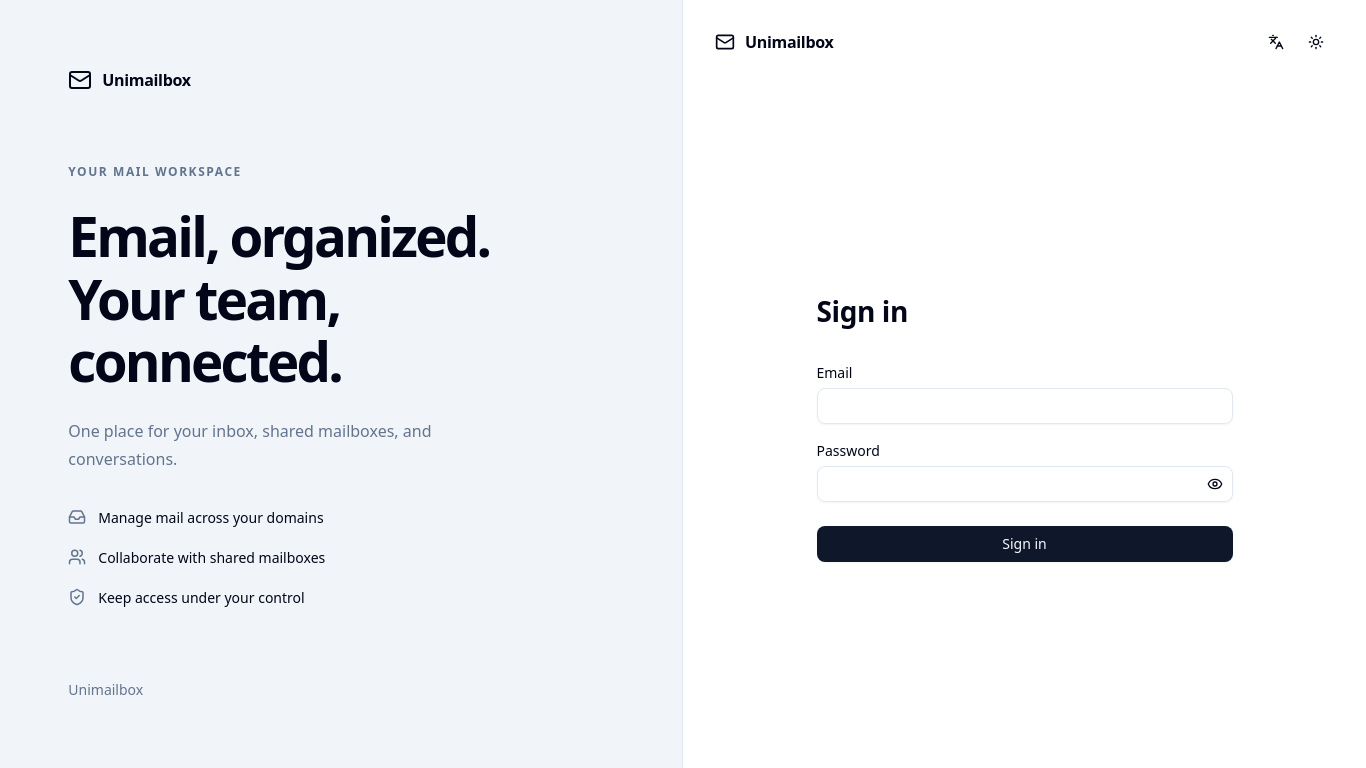
LoginPage › surfaces a 401 with the unauthorized ErrorPanel
Type "wrong@b.test" into the field labelled "Email".
click(1024, 406); type("wrong@b.test")  # box [816,388,1232,424]
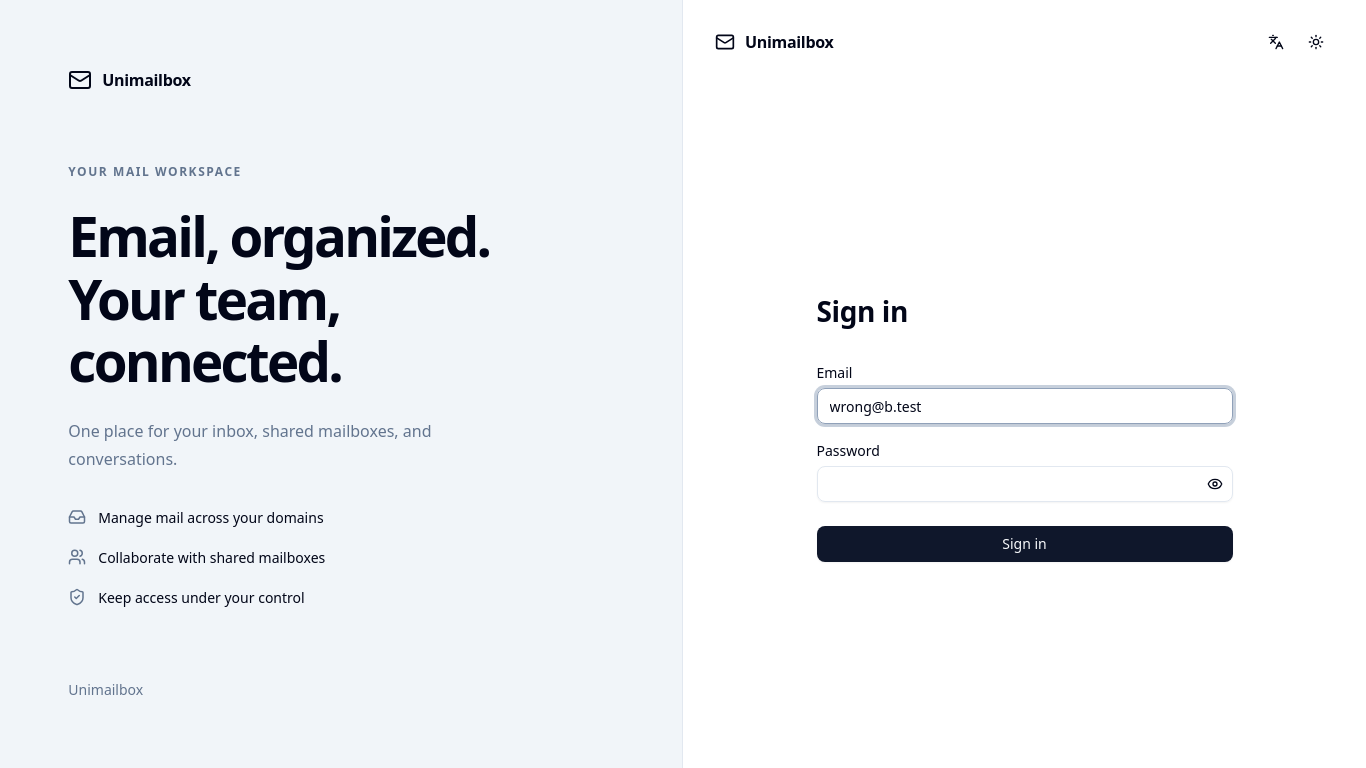
Type "wrongpw" into the password field labelled "Password".
click(1024, 484); type("wrongpw")  # box [816,466,1232,502]
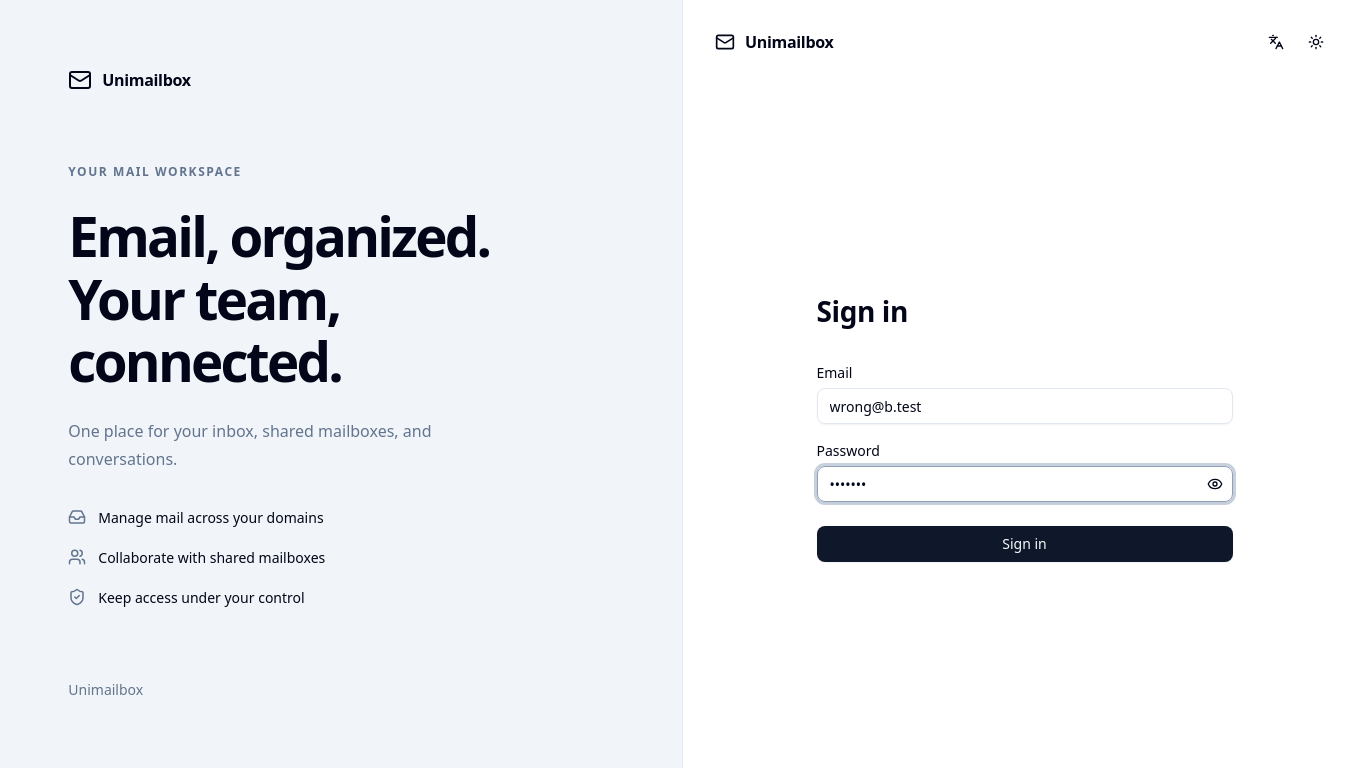
Click the button with test id "login-submit".
click(1024, 544)  # box [816,526,1232,562]
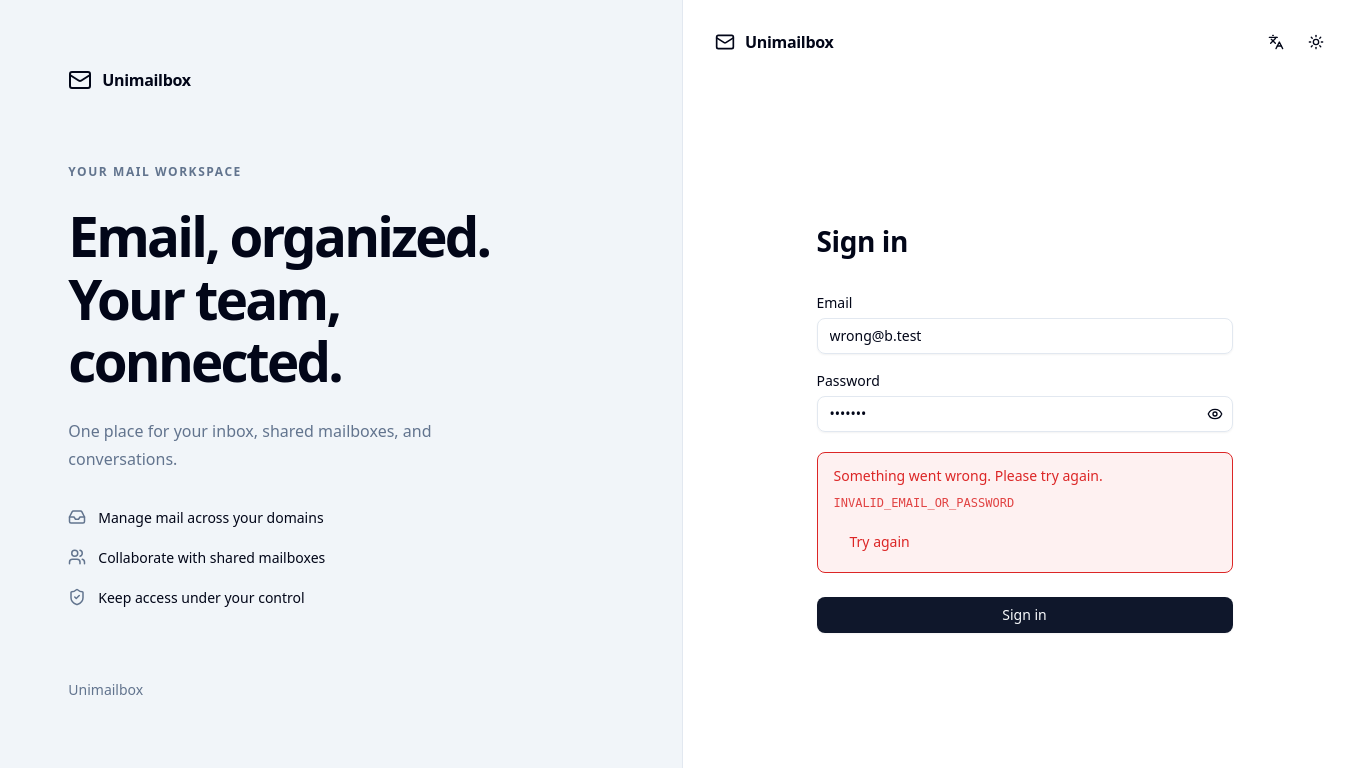
Check: the message "Something went wrong. Please try again. INVALID_EMAIL_OR_PASSWORD Try again" is shown, box [816,452,1232,572]
Check: the text with test id "error-code" reads "INVALID_EMAIL_OR_PASSWORD", box [834,496,1014,510]
